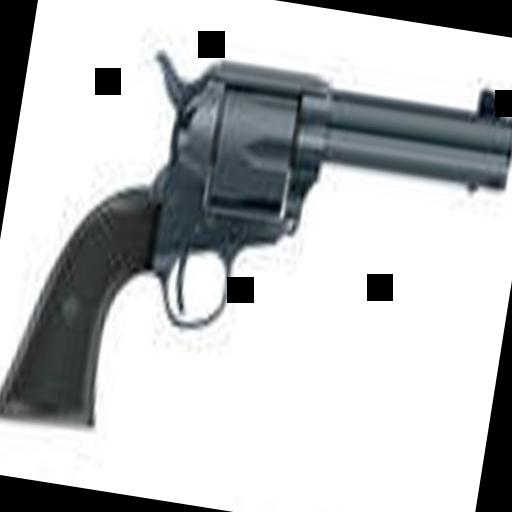Handgun: (0, 14, 512, 488)
